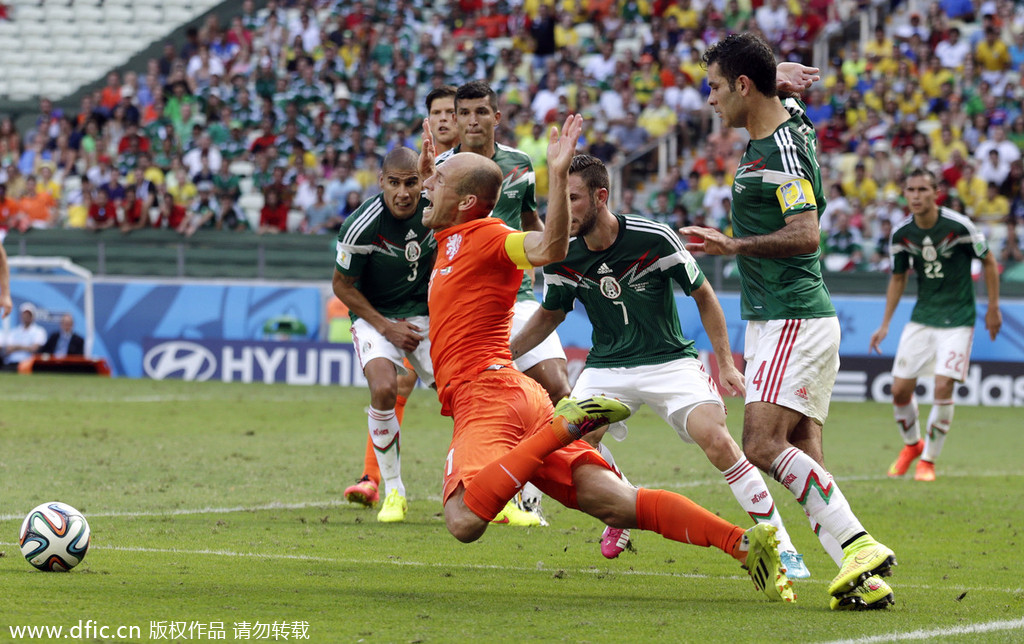10+: (4, 4, 1008, 619)
down: (406, 107, 814, 615)
